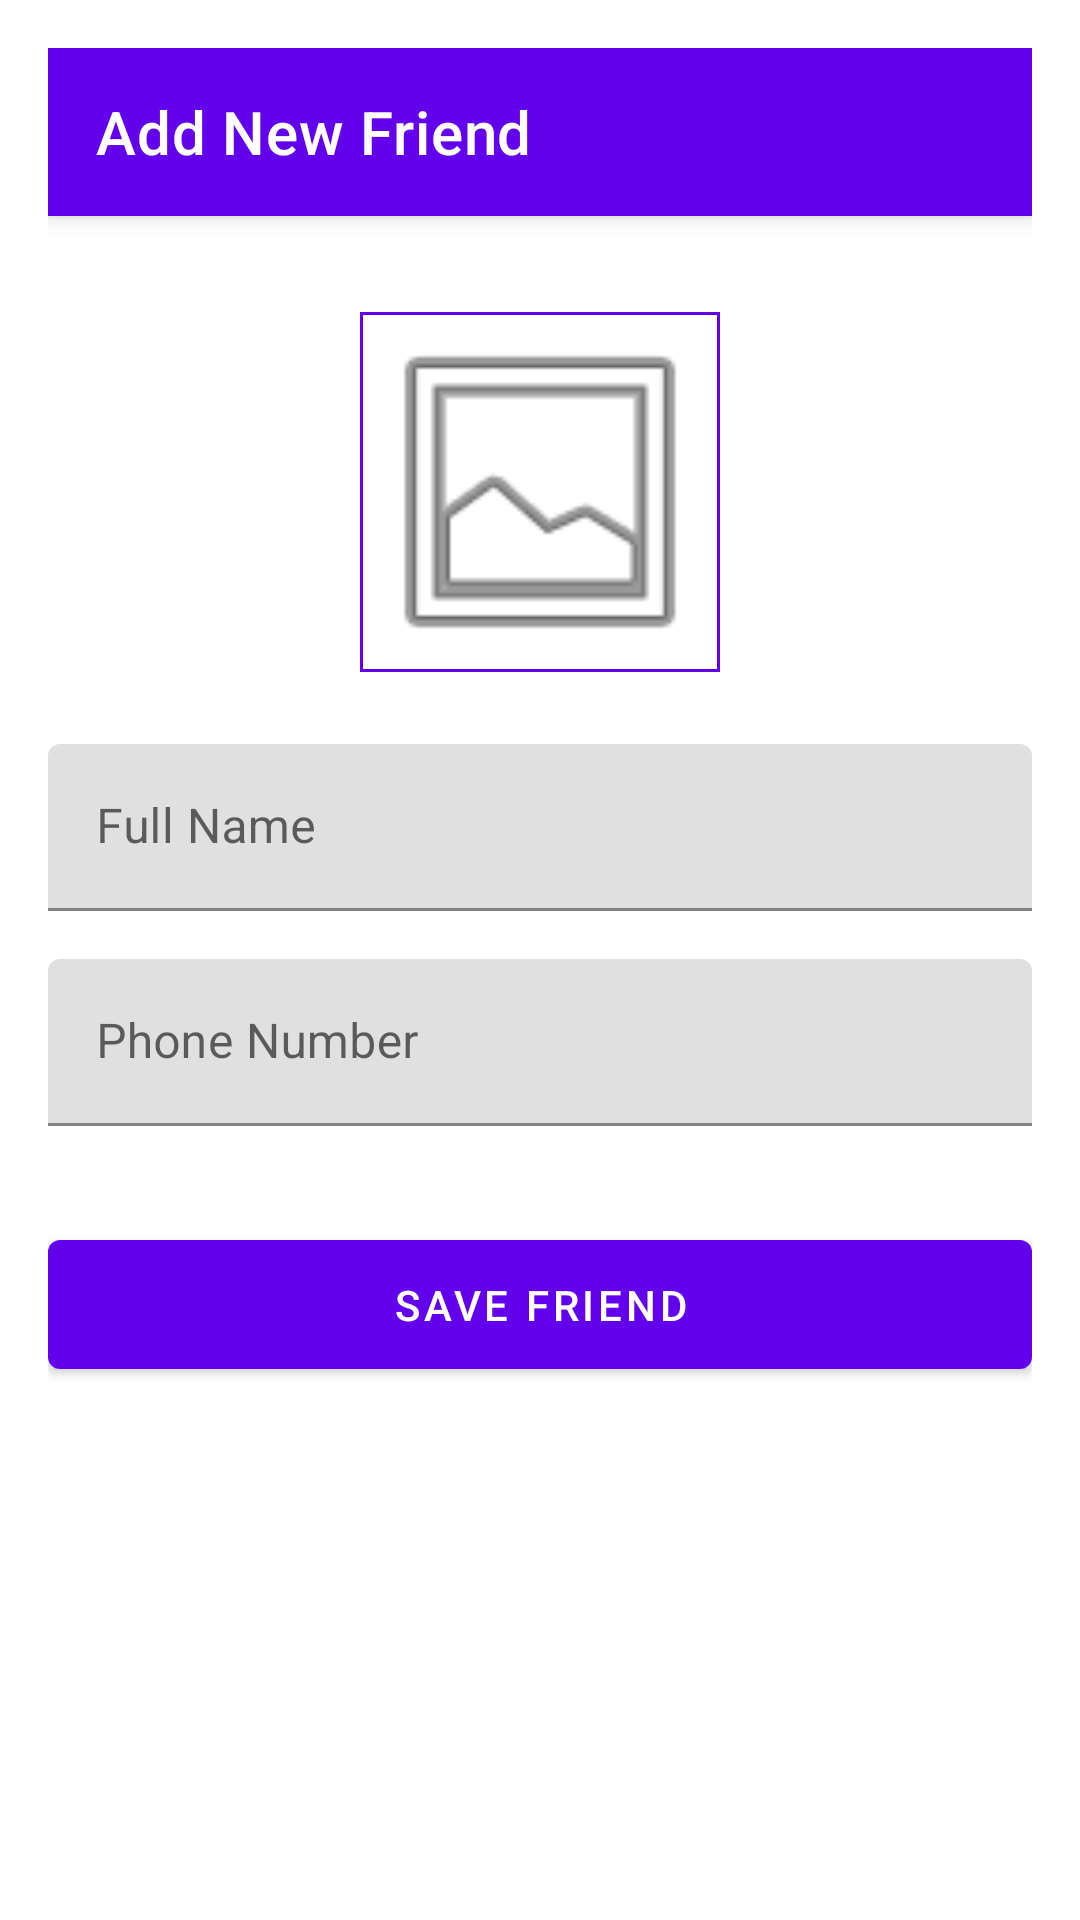

Screen size 1080w x 1920h. Icon name, then its center in pixels as (x=x, y=y):
gallery: (x=540, y=492)
